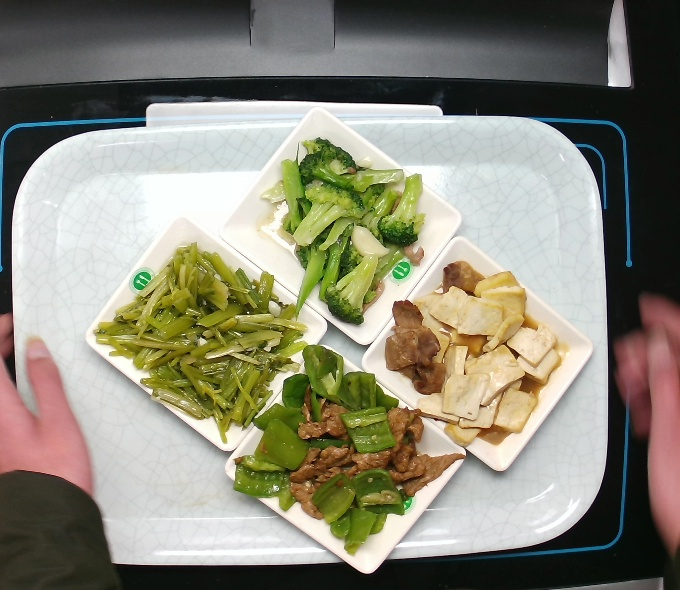wcq-DouFuRouPian: (384, 267, 564, 445)
wcq-QinCai: (124, 257, 292, 417)
wcq-QingJiaoChaoRou: (218, 343, 469, 560)
wcq-XiLanHua: (264, 133, 431, 321)
